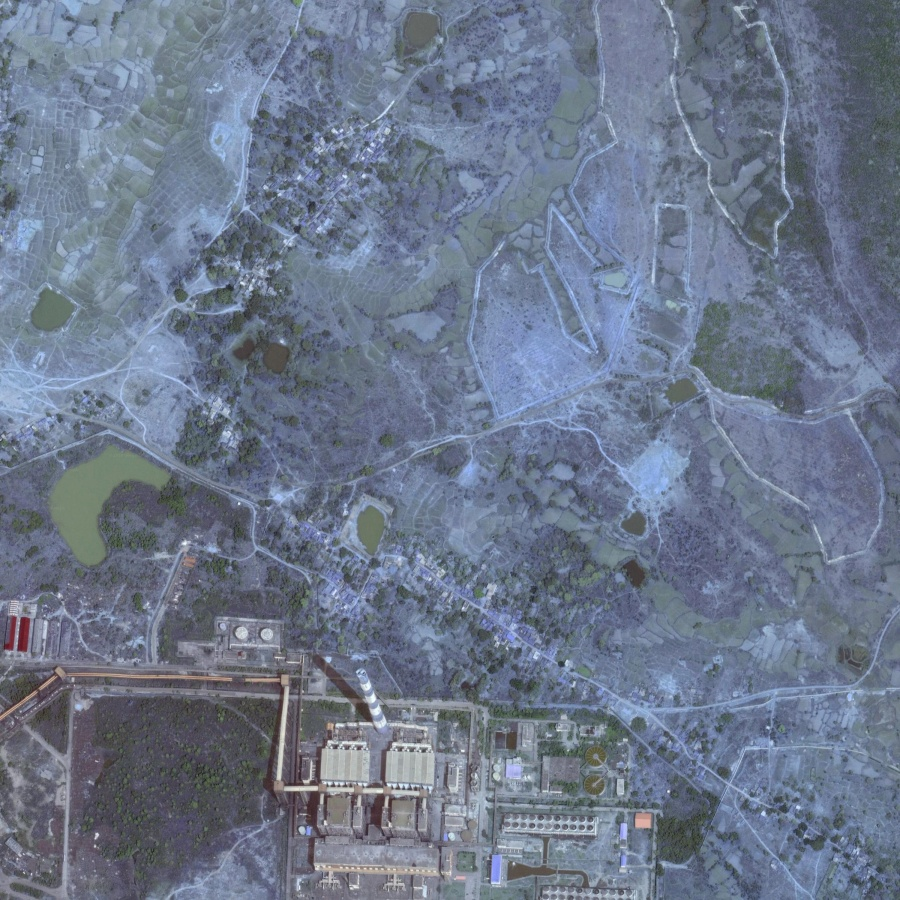PowerPlant: (287, 629, 441, 762)
